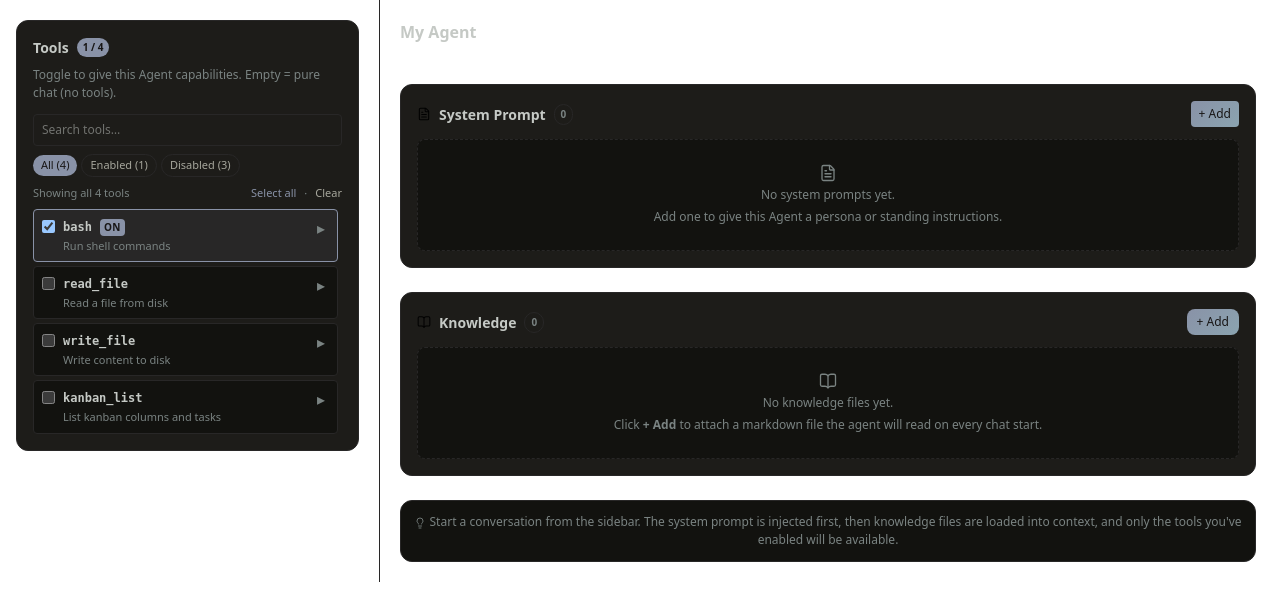
AgentView › enabled-state filter chips › filter composes with search query
Click the button with test id "agent-tools-filter-disabled" at (200, 165), box [161,154,240,176]
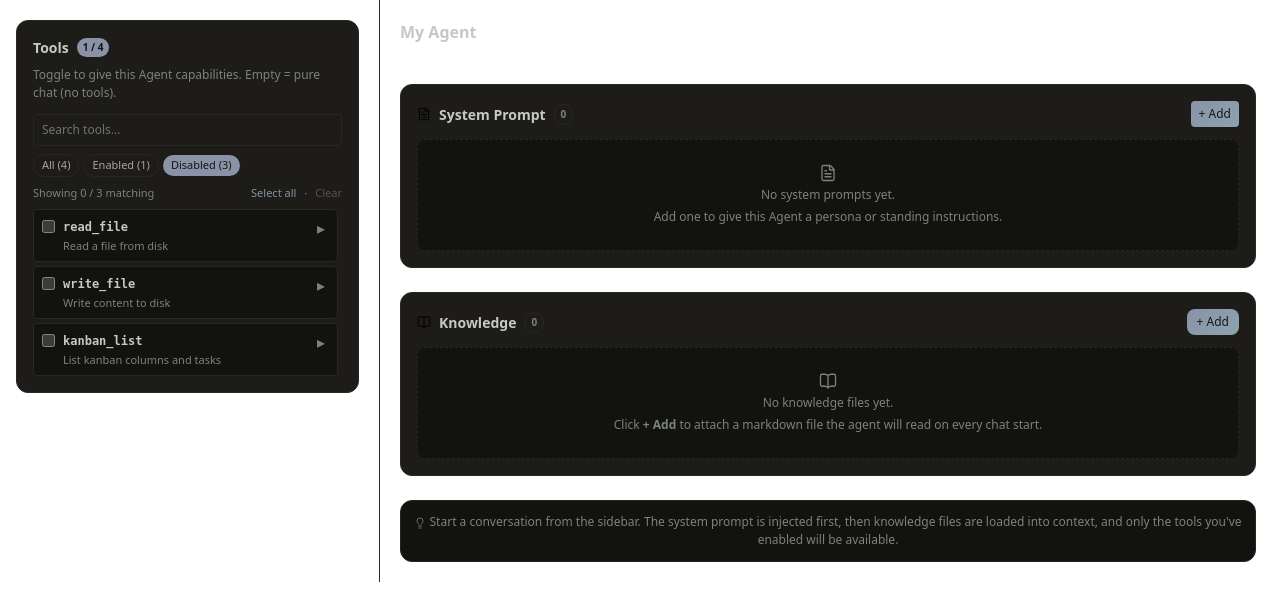
Type "file" into the field with test id "agent-tools-search" at (188, 130), box [33,114,342,146]
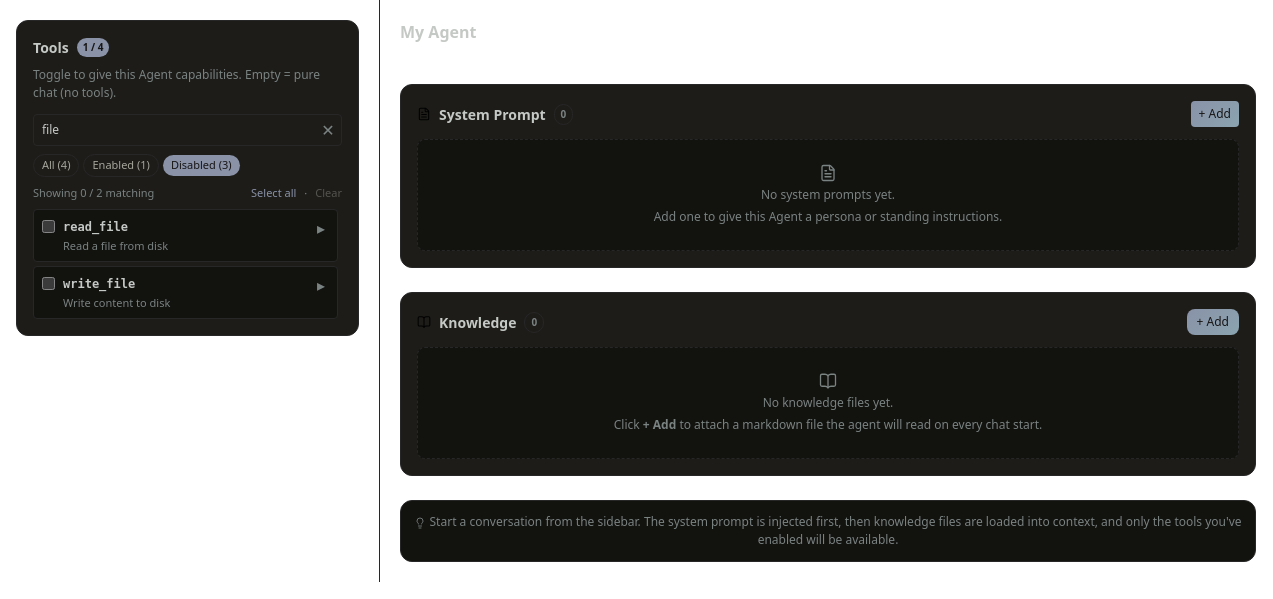
Check: the number of list items with test id "agent-tool-item" is 2, box [33,209,338,262]; [33,266,338,319]
